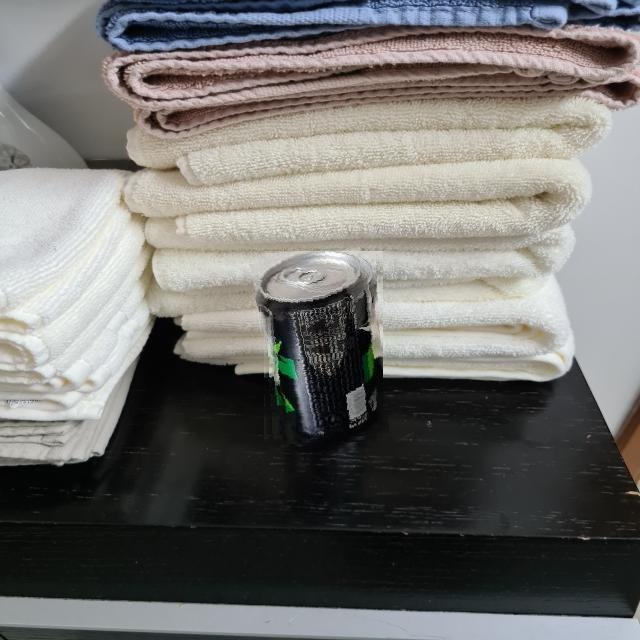recyclable: (257, 251, 383, 446)
